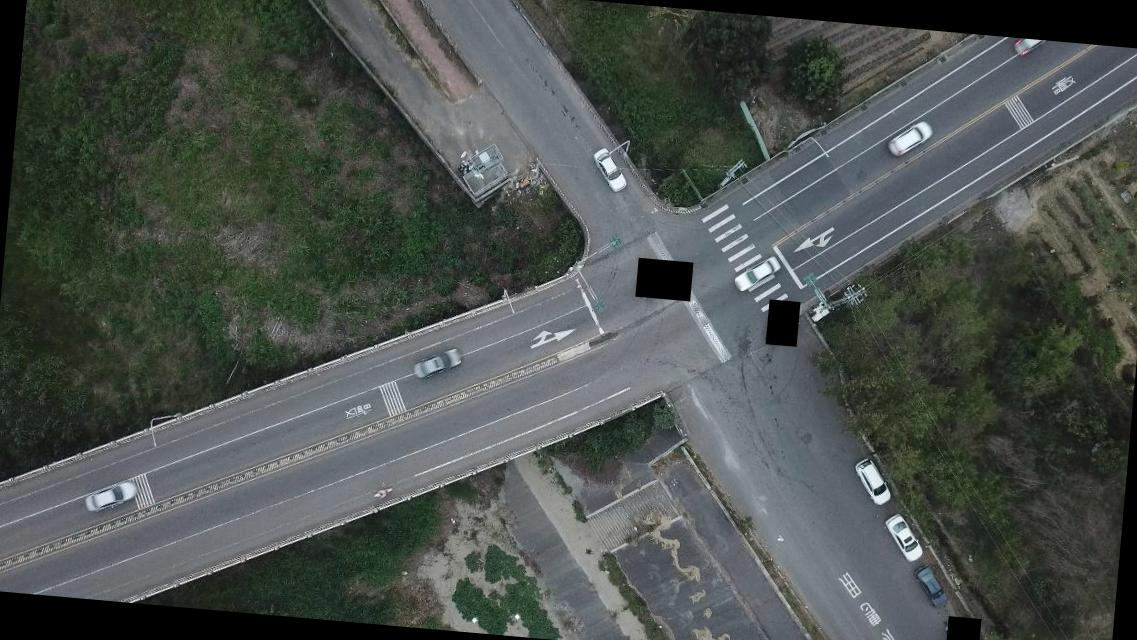vehicle: (85, 476, 138, 517), (886, 117, 934, 162), (850, 458, 895, 506), (731, 253, 780, 296), (884, 512, 926, 562), (412, 343, 462, 382), (589, 146, 629, 194), (912, 565, 948, 609), (1011, 38, 1047, 58)
